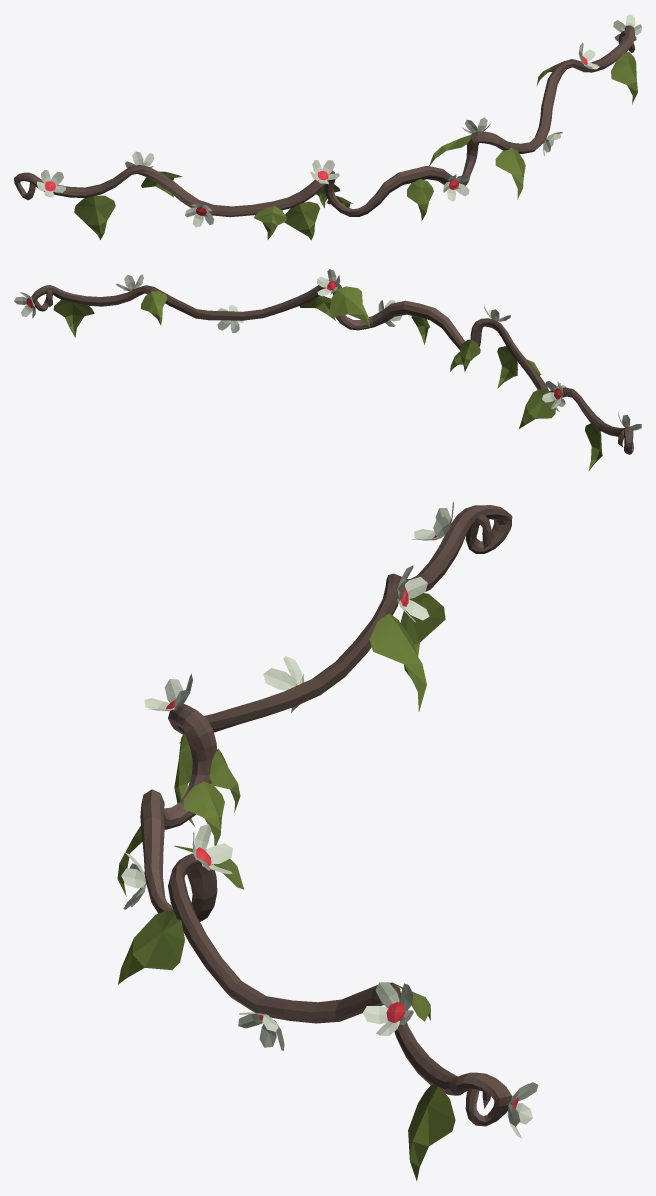
The model's file is largeCrossbowIvyTip.glb.
3 views of the same model, one above another, from view 1: azimuth 30°, elevation 25°; view 2: azimuth 150°, elevation 25°; view 3: azimuth 270°, elevation 25° (orthographic). The views are drawn at different scales.
Parts seen in each view (by area): view 1: largeCrossbowIvyTip; view 2: largeCrossbowIvyTip; view 3: largeCrossbowIvyTip.
Boxes of the visible parts, box(x1,y1,x2,y2) form: largeCrossbowIvyTip: box(14, 14, 641, 240); largeCrossbowIvyTip: box(14, 269, 641, 471); largeCrossbowIvyTip: box(117, 501, 538, 1181).
Size of the model in its own units: 1.26 by 0.1645 by 0.3731.
